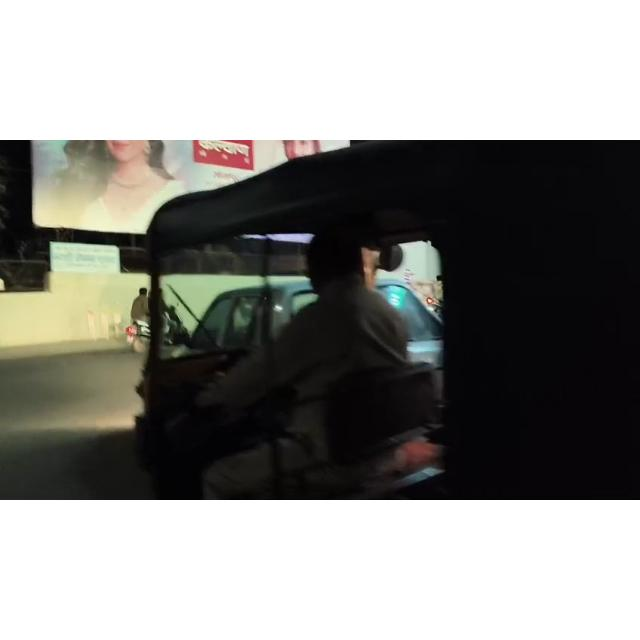auto: (129, 157, 640, 501)
car: (143, 268, 506, 424)
